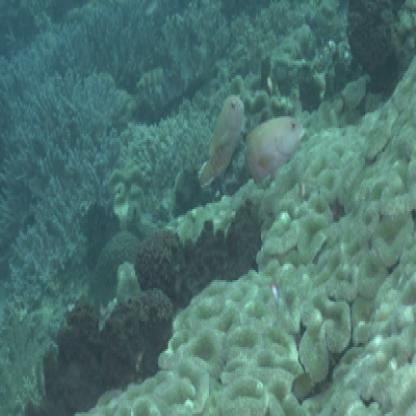Bio: (233, 98, 305, 202), (192, 84, 249, 200)
